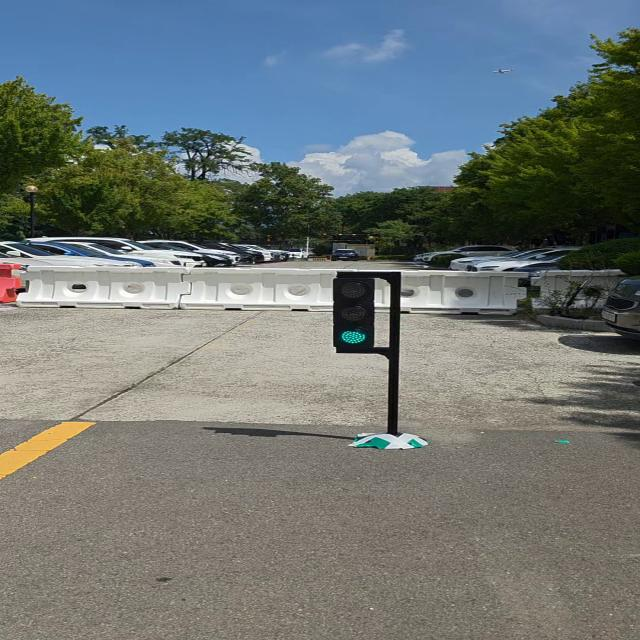green: (332, 272, 376, 356)
